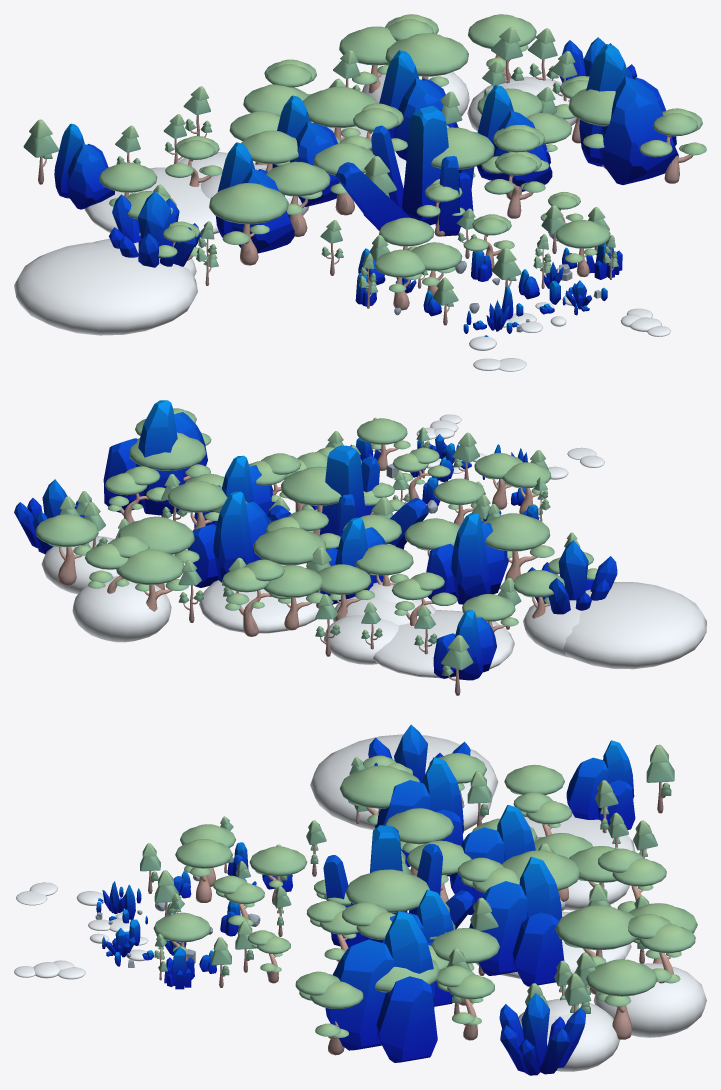
File: level_3.glb
3 renders of one model, top to bottom at view 1: azimuth 30°, elevation 25°; view 2: azimuth 150°, elevation 25°; view 3: azimuth 270°, elevation 25°, orthographic. The views are drawn at different scales.
Parts seen in each view (by area): view 1: Ortam_2, Ortam_4, Ortam_3, Ortam_1; view 2: Ortam_4, Ortam_2, Ortam_3, Ortam_1; view 3: Ortam_2, Ortam_4, Ortam_3, Ortam_1.
Boxes of the visible parts, x1,y1,x2,y2 form: Ortam_2: (54, 14, 678, 316); Ortam_4: (14, 26, 576, 335); Ortam_3: (99, 14, 706, 275); Ortam_1: (358, 192, 670, 371); Ortam_4: (41, 481, 706, 695); Ortam_2: (14, 400, 617, 680); Ortam_3: (76, 408, 518, 636); Ortam_1: (315, 414, 604, 526); Ortam_2: (155, 724, 657, 1075); Ortam_4: (310, 734, 706, 1071); Ortam_3: (295, 764, 695, 1055); Ortam_1: (14, 816, 307, 987).
Size of the model in its own units: 85.38 by 18.24 by 73.84.
3 materials, 2 textured.
